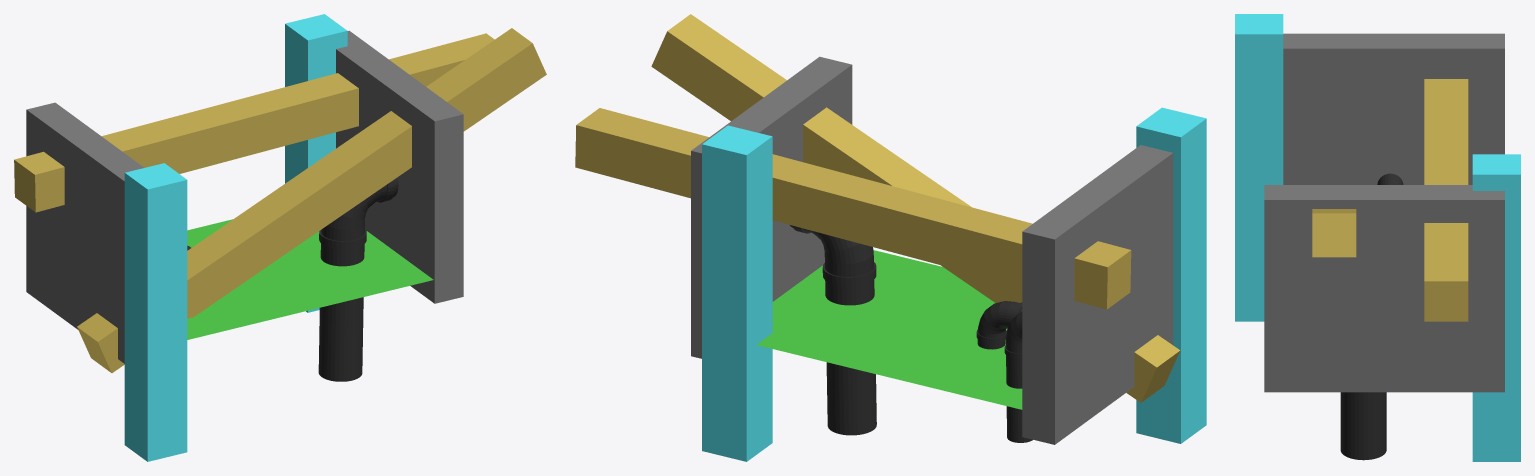
Rendered from TrenchSegBeam2x.fbx.
3 renders of one model, left to right at view 1: azimuth 30°, elevation 25°; view 2: azimuth 150°, elevation 25°; view 3: azimuth 270°, elevation 25°, orthographic. The views are drawn at different scales.
Parts seen in each view (by area): view 1: Cube.005, Cube, Cube.004, Cube.002, Cube.001, Plane, Cylinder, Cube.003; view 2: Cube.002, Cube.004, Cube.003, Plane, Cube.005, Cube, Cube.001, Cylinder, Cylinder.003, Cylinder.002; view 3: Cube.001, Cube.002, Cube, Cube.004, Cube.003, Cylinder, Cube.005.
Part boxes in pixels (x1=…): Cube.005: x1=77, y1=28, x2=546, y2=372; Cube: x1=124, y1=163, x2=187, y2=461; Cube.004: x1=14, y1=33, x2=494, y2=212; Cube.002: x1=26, y1=102, x2=144, y2=363; Cube.001: x1=336, y1=30, x2=463, y2=303; Plane: x1=187, y1=219, x2=433, y2=339; Cylinder: x1=318, y1=177, x2=398, y2=381; Cube.003: x1=285, y1=14, x2=347, y2=312; Cube.002: x1=1022, y1=145, x2=1173, y2=444; Cube.004: x1=575, y1=108, x2=1131, y2=309; Cube.003: x1=702, y1=125, x2=772, y2=461; Plane: x1=756, y1=250, x2=1022, y2=409; Cube.005: x1=651, y1=14, x2=1180, y2=402; Cube: x1=1136, y1=107, x2=1206, y2=443; Cube.001: x1=691, y1=56, x2=852, y2=358; Cylinder: x1=790, y1=225, x2=876, y2=435; Cylinder.003: x1=1004, y1=311, x2=1032, y2=442; Cylinder.002: x1=976, y1=301, x2=1022, y2=349; Cube.001: x1=1264, y1=185, x2=1504, y2=392; Cube.002: x1=1283, y1=33, x2=1504, y2=184; Cube: x1=1235, y1=14, x2=1283, y2=321; Cube.004: x1=1424, y1=79, x2=1468, y2=321; Cube.003: x1=1472, y1=154, x2=1520, y2=461; Cylinder: x1=1340, y1=392, x2=1386, y2=460; Cube.005: x1=1312, y1=209, x2=1356, y2=257.
Bounding box in the file's own units: 1389 × 861 × 690.
